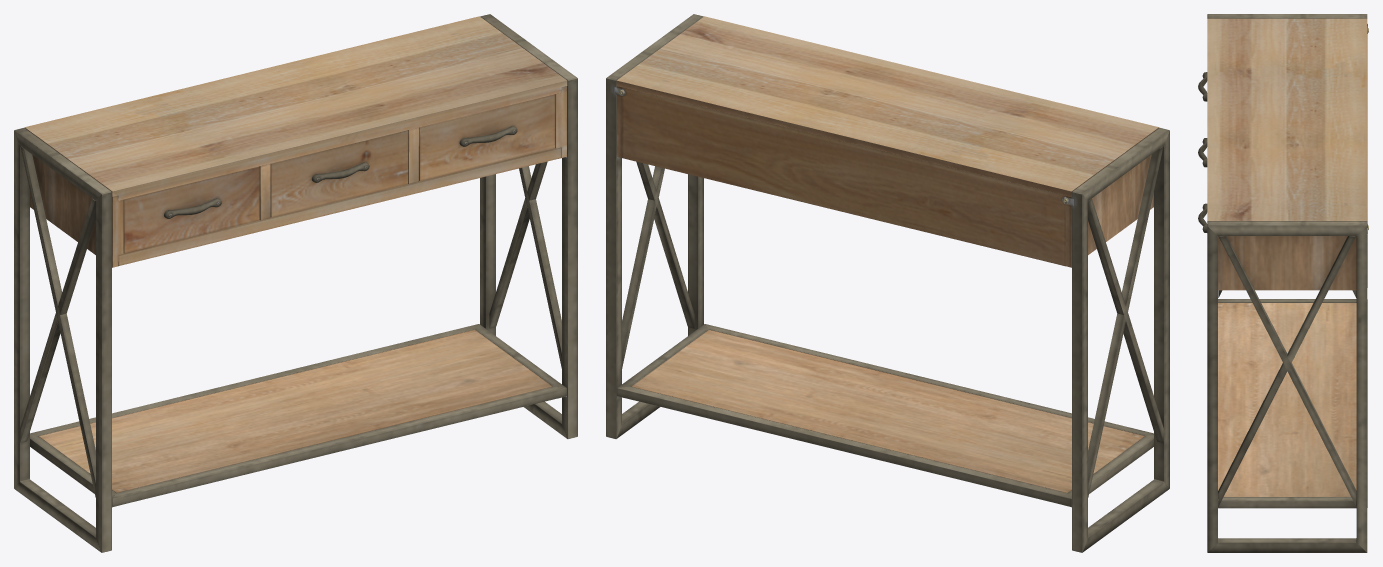
The picture shows the model from 3 angles, left to right: view 1: azimuth 30°, elevation 25°; view 2: azimuth 150°, elevation 25°; view 3: azimuth 270°, elevation 25°; orthographic projection. The views are drawn at different scales.
Visible parts, largest first — view 1: visual_RootNode; view 2: visual_RootNode; view 3: visual_RootNode.
Part boxes in pixels (x1,y1,x2,y2): visual_RootNode: (14,14,577,552); visual_RootNode: (606,14,1169,552); visual_RootNode: (1198,14,1368,552).
Bounding box in the file's own units: 1.06 × 0.3608 × 0.7625.
1 material, 1 textured.
